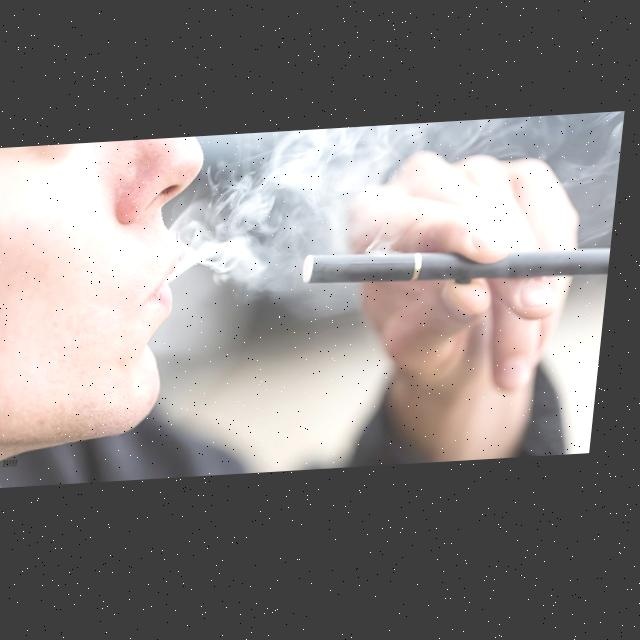vape: (306, 245, 618, 298)
